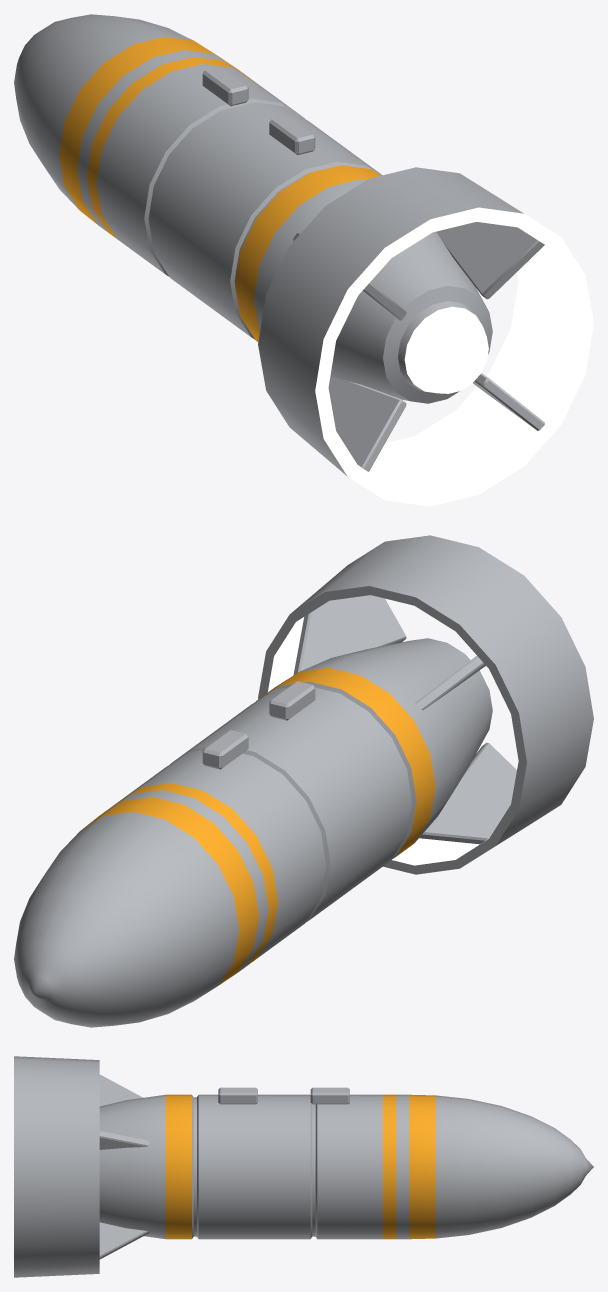
The model's file is bomb.glb.
3 views of the same model, one above another, from view 1: azimuth 30°, elevation 25°; view 2: azimuth 150°, elevation 25°; view 3: azimuth 270°, elevation 25° (orthographic). The views are drawn at different scales.
Visible parts, largest first — view 1: Bomb; view 2: Bomb; view 3: Bomb.
Boxes of the visible parts, left/top/right/bottom form: Bomb: left=14, top=14, right=593, bottom=506; Bomb: left=14, top=535, right=593, bottom=1027; Bomb: left=14, top=1056, right=593, bottom=1277.
Size of the model in its own units: 0.69 by 0.6795 by 1.8.
